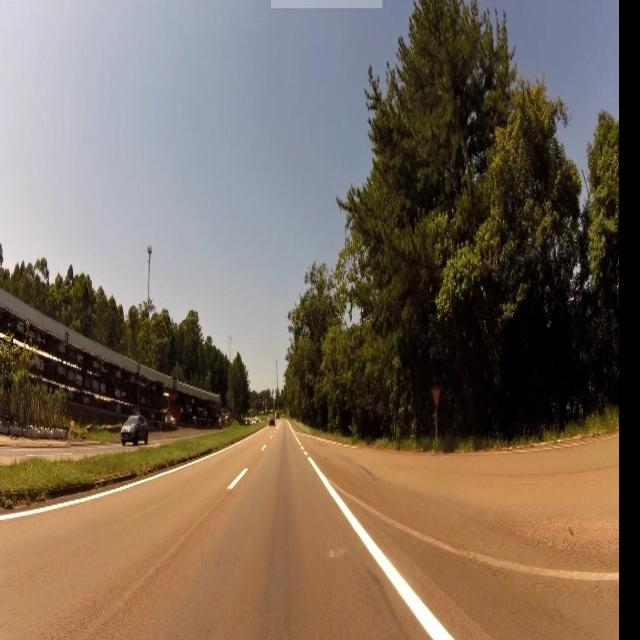R-2: (431, 384, 444, 413)
